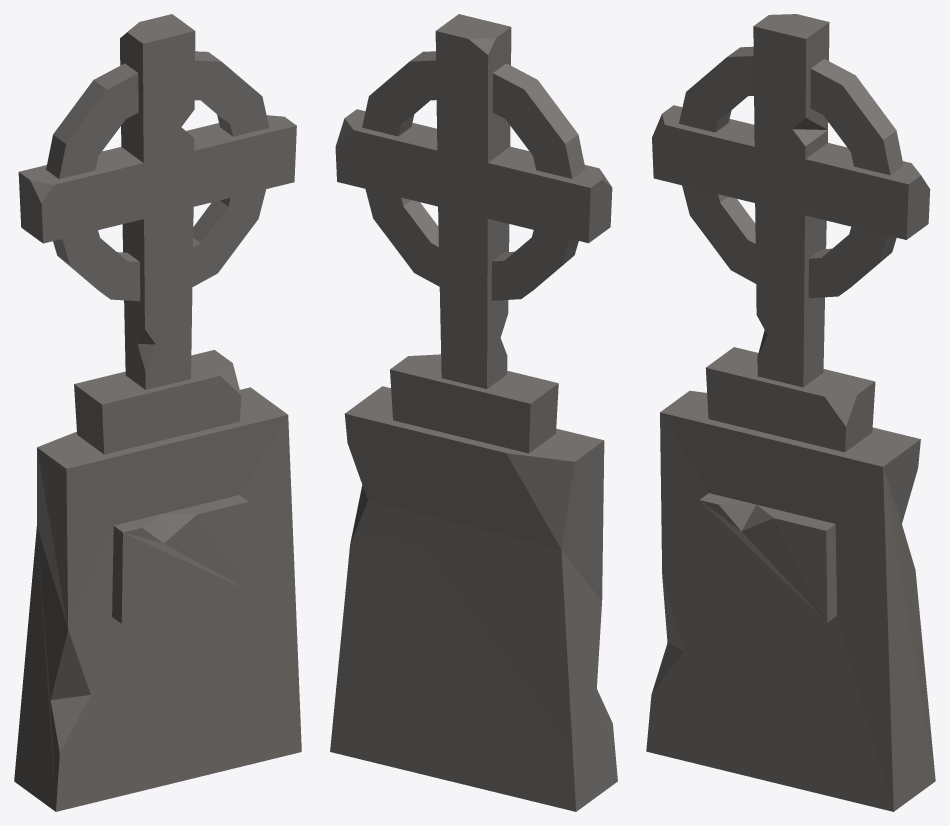
File: SM_Prop_Gravestone_01.gltf
3 views of the same model, side by side, from view 1: azimuth 30°, elevation 25°; view 2: azimuth 150°, elevation 25°; view 3: azimuth 330°, elevation 25° (orthographic).
Visible parts, largest first — view 1: SM_Prop_Gravestone_01; view 2: SM_Prop_Gravestone_01; view 3: SM_Prop_Gravestone_01.
Part boxes in pixels (box(x1,y1,x2,y2)): SM_Prop_Gravestone_01: box(14, 14, 301, 811); SM_Prop_Gravestone_01: box(330, 14, 617, 811); SM_Prop_Gravestone_01: box(646, 14, 935, 811).
Bounding box in the file's own units: 0.4821 × 1.33 × 0.1618.
Materials: 1 (1 with a texture image).
